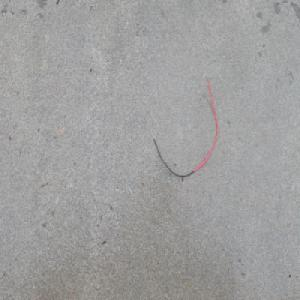Wire: (147, 72, 219, 180)
